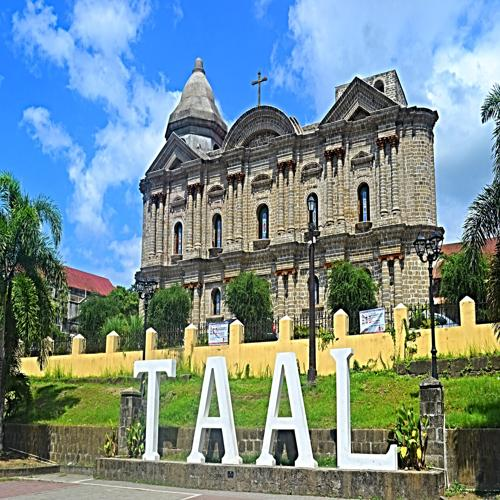Taal Basilica Church: (133, 51, 448, 343)
